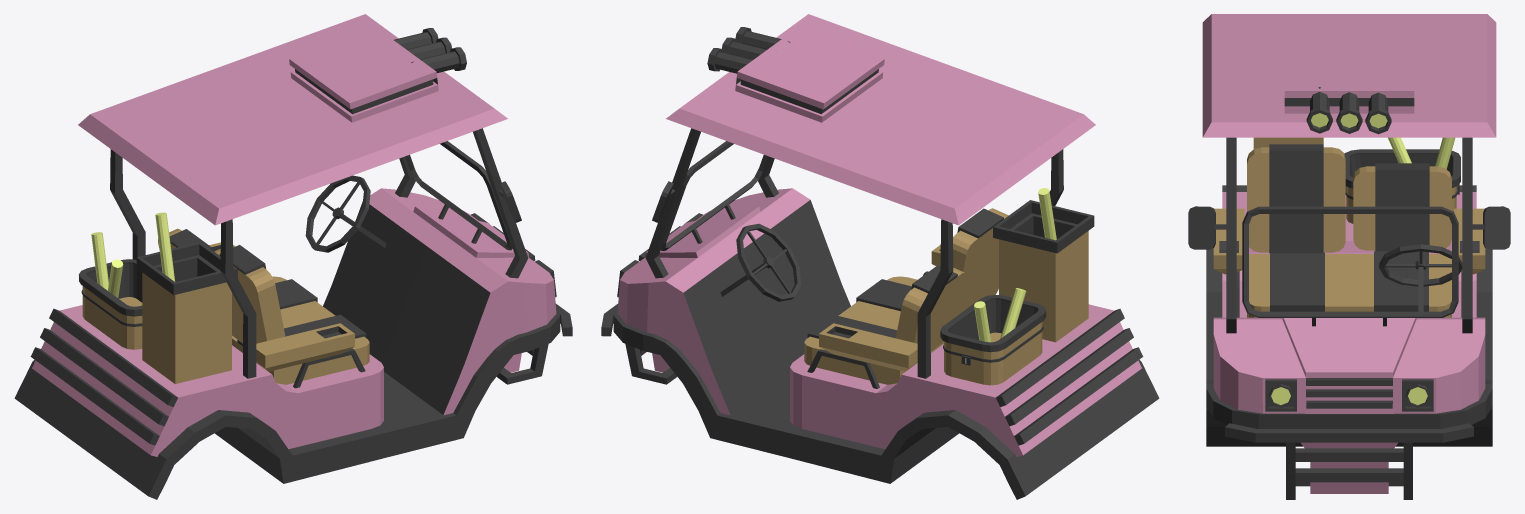
3 views of the same model, side by side, from view 1: azimuth 30°, elevation 25°; view 2: azimuth 150°, elevation 25°; view 3: azimuth 270°, elevation 25° (orthographic). The views are drawn at different scales.
Parts seen in each view (by area): view 1: ch; view 2: ch; view 3: ch.
Part boxes in pixels (left/top/right/bottom): ch: left=14, top=14, right=572, bottom=499; ch: left=601, top=14, right=1159, bottom=499; ch: left=1188, top=14, right=1510, bottom=499.
Size of the model in its own units: 1.45 by 1.06 by 0.8522.
